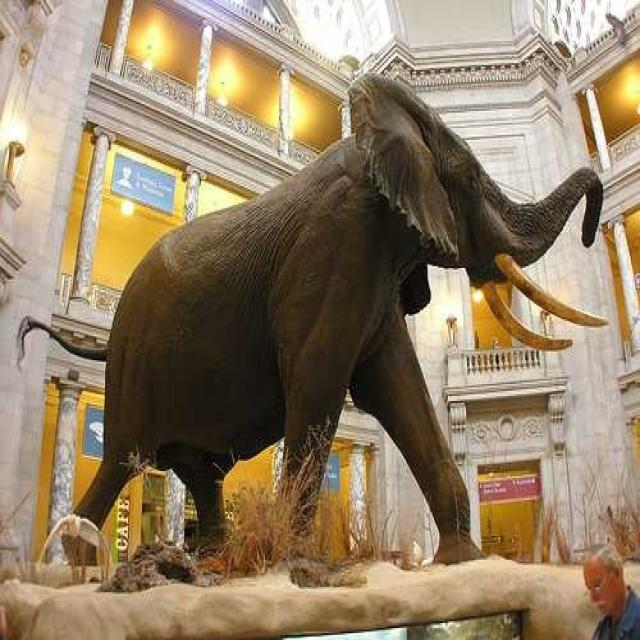Elephant: (19, 69, 608, 580)
person: (582, 543, 639, 638)
